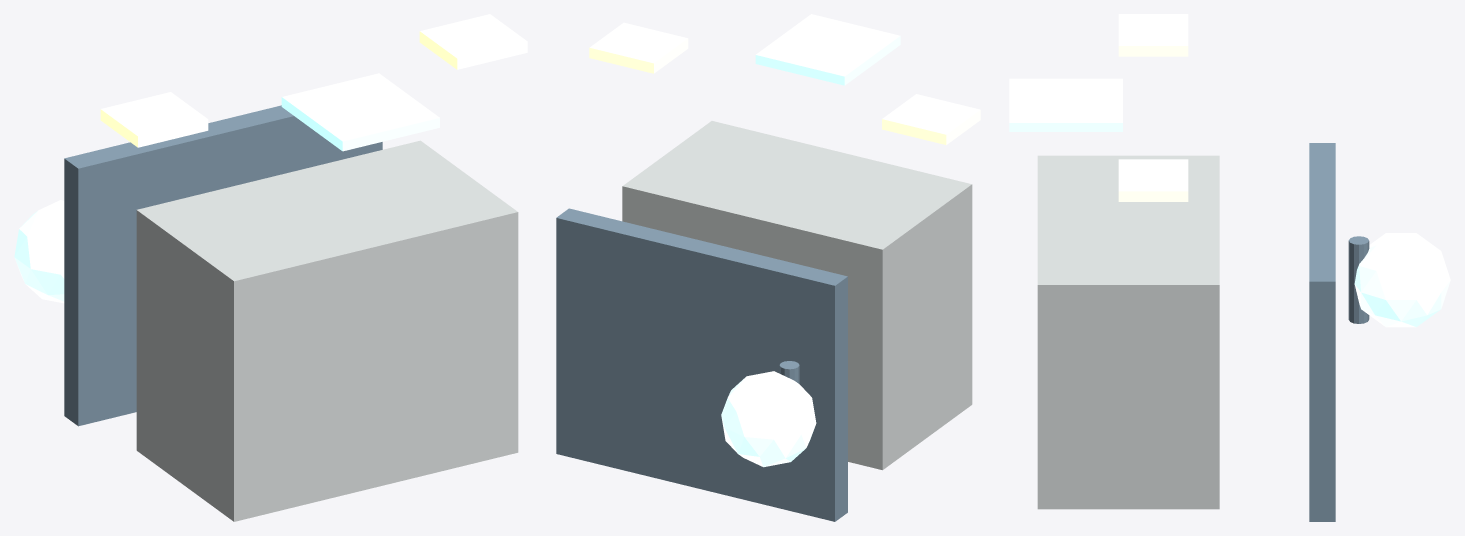
Rendered from struct_lab_l1_no_outline.glb.
3 views of the same model, side by side, from view 1: azimuth 30°, elevation 25°; view 2: azimuth 150°, elevation 25°; view 3: azimuth 270°, elevation 25° (orthographic). The views are drawn at different scales.
Visible parts, largest first — view 1: struct_lab_l1_corpo_no_outline, struct_lab_l1_cobertura_no_outline, struct_lab_l1_porta_no_outline, struct_lab_l1_antena_no_outline, struct_lab_l1_janela_01_no_outline, struct_lab_l1_janela_02_no_outline; view 2: struct_lab_l1_cobertura_no_outline, struct_lab_l1_corpo_no_outline, struct_lab_l1_antena_no_outline, struct_lab_l1_porta_no_outline, struct_lab_l1_janela_02_no_outline, struct_lab_l1_janela_01_no_outline; view 3: struct_lab_l1_corpo_no_outline, struct_lab_l1_cobertura_no_outline, struct_lab_l1_antena_no_outline, struct_lab_l1_porta_no_outline, struct_lab_l1_janela_01_no_outline, struct_lab_l1_janela_02_no_outline, struct_lab_l1_mastro_no_outline.
Part boxes in pixels (x1=…): struct_lab_l1_corpo_no_outline: x1=136, y1=140, x2=518, y2=521; struct_lab_l1_cobertura_no_outline: x1=64, y1=105, x2=382, y2=426; struct_lab_l1_porta_no_outline: x1=281, y1=73, x2=439, y2=151; struct_lab_l1_antena_no_outline: x1=14, y1=200, x2=64, y2=303; struct_lab_l1_janela_01_no_outline: x1=100, y1=92, x2=208, y2=147; struct_lab_l1_janela_02_no_outline: x1=419, y1=14, x2=527, y2=69; struct_lab_l1_cobertura_no_outline: x1=556, y1=208, x2=847, y2=521; struct_lab_l1_corpo_no_outline: x1=622, y1=121, x2=972, y2=470; struct_lab_l1_antena_no_outline: x1=721, y1=371, x2=816, y2=467; struct_lab_l1_porta_no_outline: x1=755, y1=14, x2=900, y2=85; struct_lab_l1_janela_02_no_outline: x1=589, y1=22, x2=688, y2=73; struct_lab_l1_janela_01_no_outline: x1=882, y1=94, x2=980, y2=144; struct_lab_l1_corpo_no_outline: x1=1037, y1=155, x2=1219, y2=509; struct_lab_l1_cobertura_no_outline: x1=1309, y1=143, x2=1335, y2=521; struct_lab_l1_antena_no_outline: x1=1354, y1=233, x2=1450, y2=327; struct_lab_l1_porta_no_outline: x1=1009, y1=78, x2=1122, y2=131; struct_lab_l1_janela_01_no_outline: x1=1118, y1=14, x2=1188, y2=56; struct_lab_l1_janela_02_no_outline: x1=1118, y1=159, x2=1188, y2=201; struct_lab_l1_mastro_no_outline: x1=1348, y1=236, x2=1369, y2=323.
Bounding box in the file's own units: 2.88 × 2.67 × 3.03.
